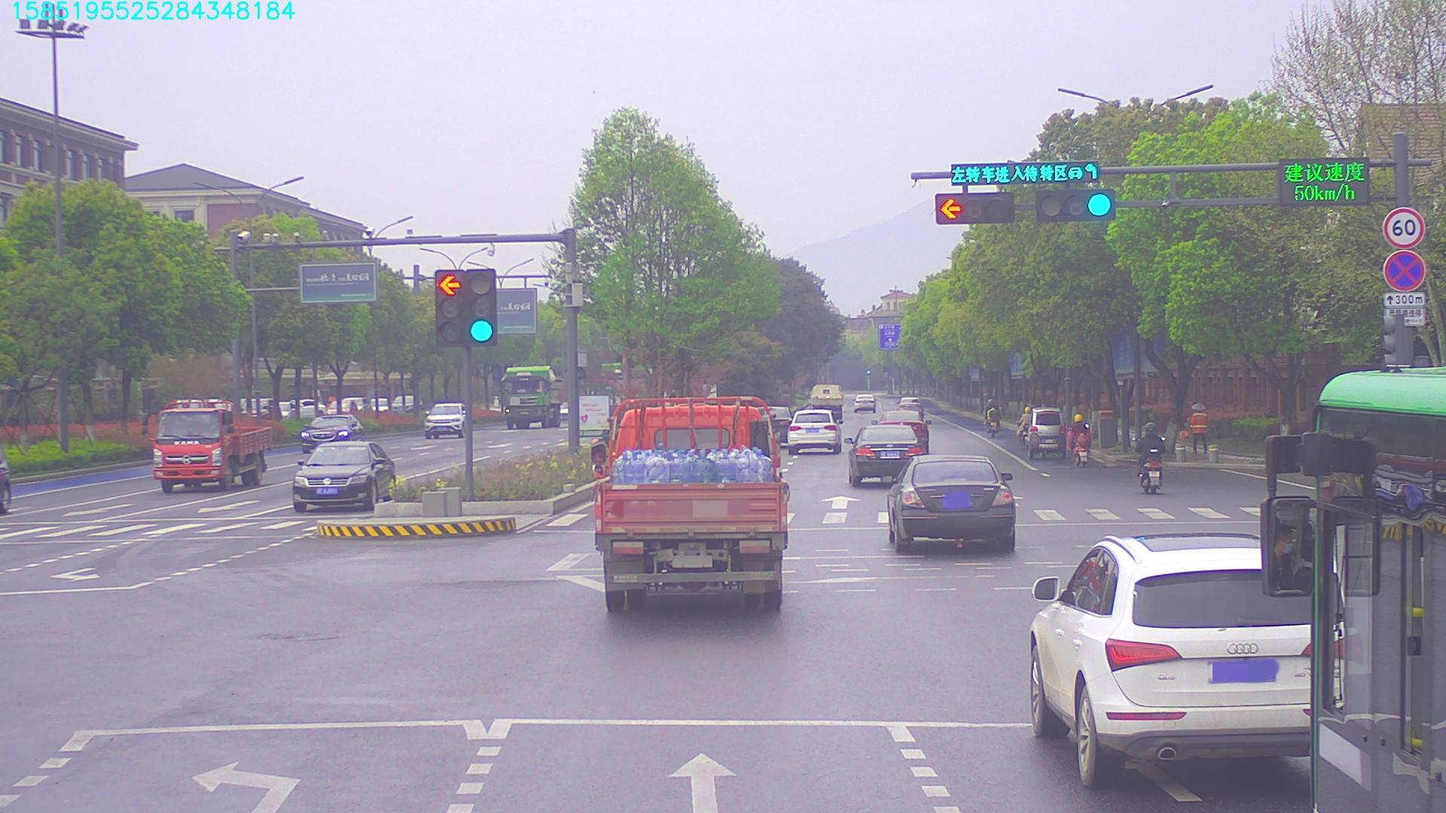green: (1039, 190, 1112, 219)
red: (941, 195, 1008, 224)
wait_on: (948, 157, 1094, 184)
